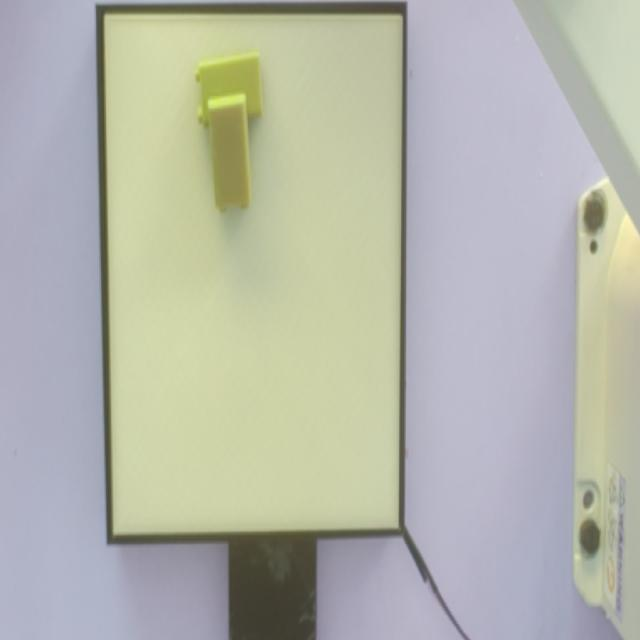bateria: (207, 92, 251, 213)
mesa: (97, 1, 406, 543)
